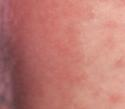plaque psoriasis: (48, 0, 125, 5)
